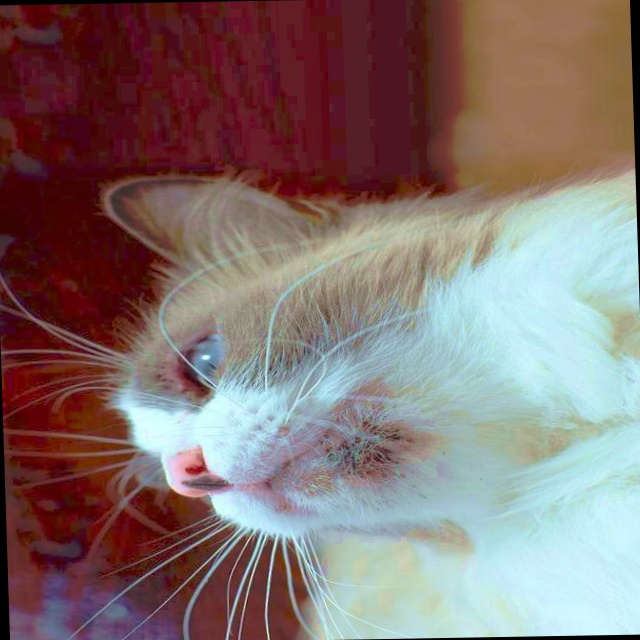acne: (321, 410, 417, 484)
